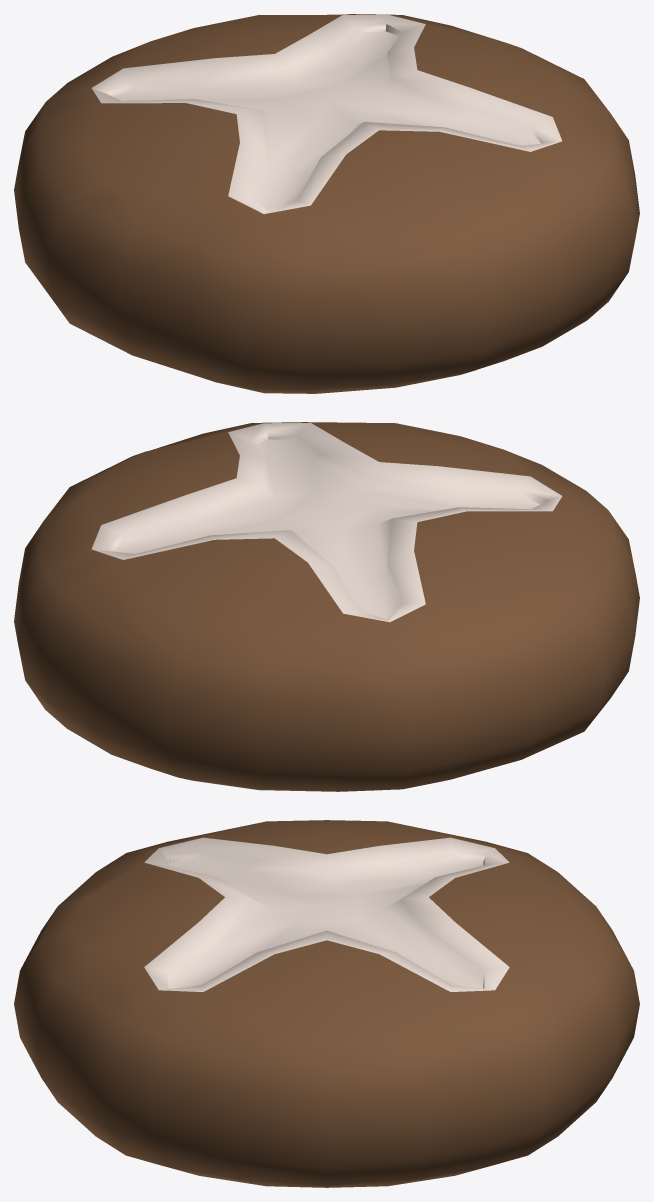
Rendered from Bread_1.glb.
3 renders of one model, top to bottom at view 1: azimuth 30°, elevation 25°; view 2: azimuth 150°, elevation 25°; view 3: azimuth 270°, elevation 25°, orthographic. The views are drawn at different scales.
Parts seen in each view (by area): view 1: Bread_1; view 2: Bread_1; view 3: Bread_1.
Part boxes in pixels (left/top/right/bottom): Bread_1: left=14, top=14, right=639, bottom=393; Bread_1: left=14, top=422, right=639, bottom=791; Bread_1: left=14, top=820, right=639, bottom=1187.
Bounding box in the file's own units: 0.3284 × 0.1254 × 0.3284.
1 material, 1 textured.
